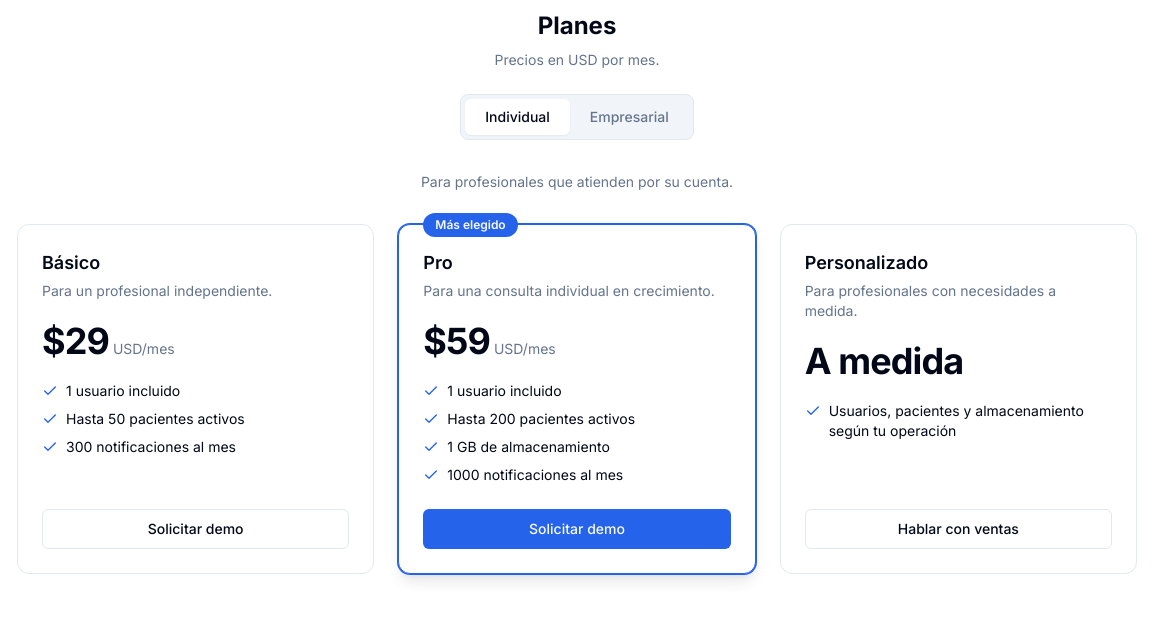
PlanGroups › switches to the business plans with their limits and extra-seat price
Click the tab "Empresarial". click: (629, 117)
box: [570,99,689,135]
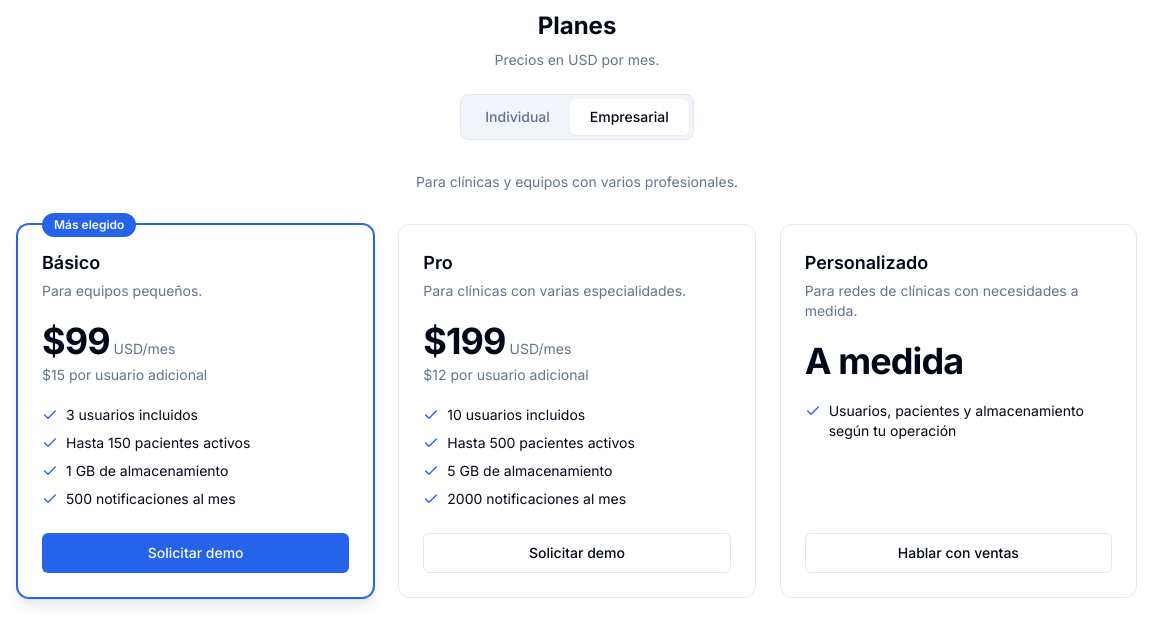
Check: the text "$99" is shown, box [42,319,110,363]
Check: the text "3 usuarios incluidos" is shown, box [66,405,198,425]
Check: the text "$15 por usuario adicional" is shown, box [42,366,207,383]
